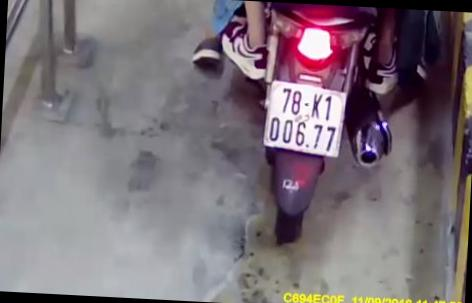LP: (266, 78, 348, 158)
